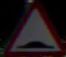Speed Breaker ahead: (10, 5, 55, 50)
